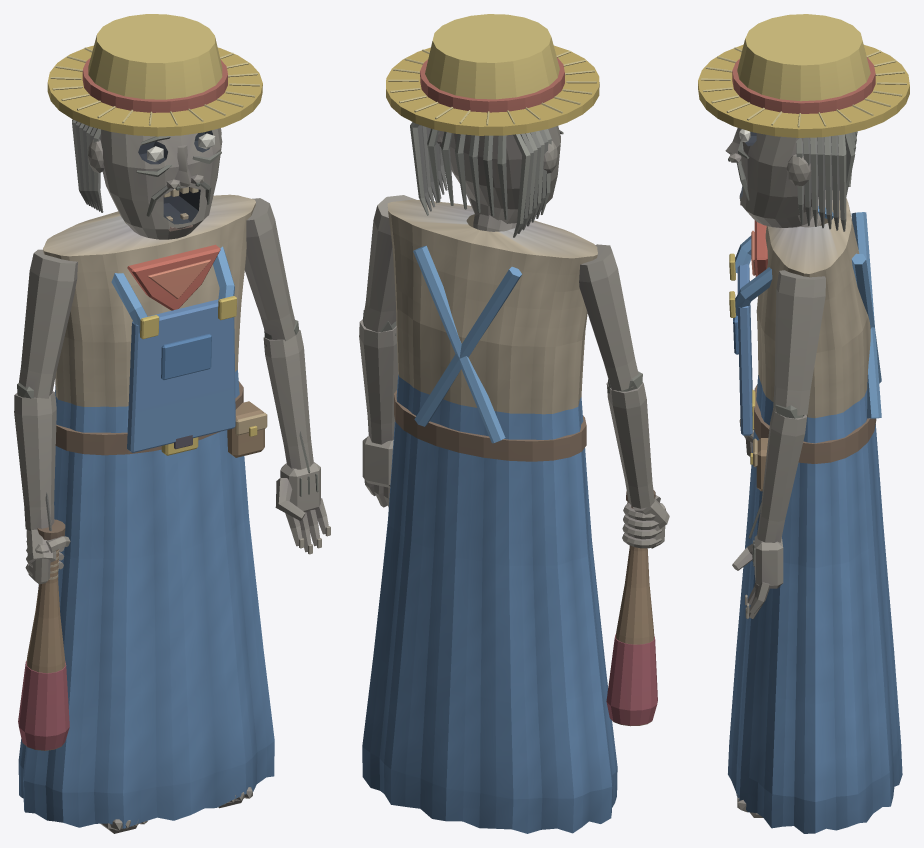
The model's file is GrannyFarmer.glb.
3 renders of one model, left to right at view 1: azimuth 30°, elevation 25°; view 2: azimuth 150°, elevation 25°; view 3: azimuth 270°, elevation 25°, orthographic.
Visible parts, largest first — view 1: Body, Head, ArmR, ArmL; view 2: Body, Head, ArmR, ArmL; view 3: Body, Head, ArmL.
Part boxes in pixels (x1,y1,x2,y2): Body: [18, 194, 274, 828]; Head: [47, 14, 262, 239]; ArmR: [14, 249, 77, 750]; ArmL: [244, 198, 330, 554]; Body: [362, 199, 617, 833]; Head: [386, 14, 599, 237]; ArmR: [579, 244, 669, 726]; ArmL: [359, 195, 416, 507]; Body: [728, 190, 902, 833]; Head: [698, 14, 909, 231]; ArmL: [732, 270, 825, 618].
Size of the model in its own units: 2.62 by 6.35 by 1.63.
